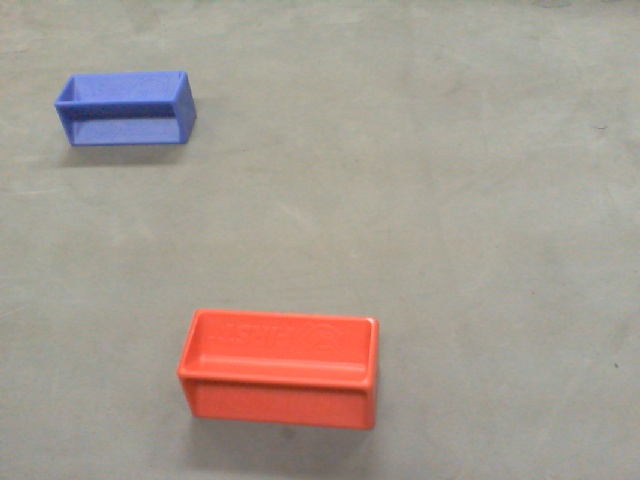BlueSample: (52, 68, 200, 147)
RedSample: (174, 303, 387, 431)
